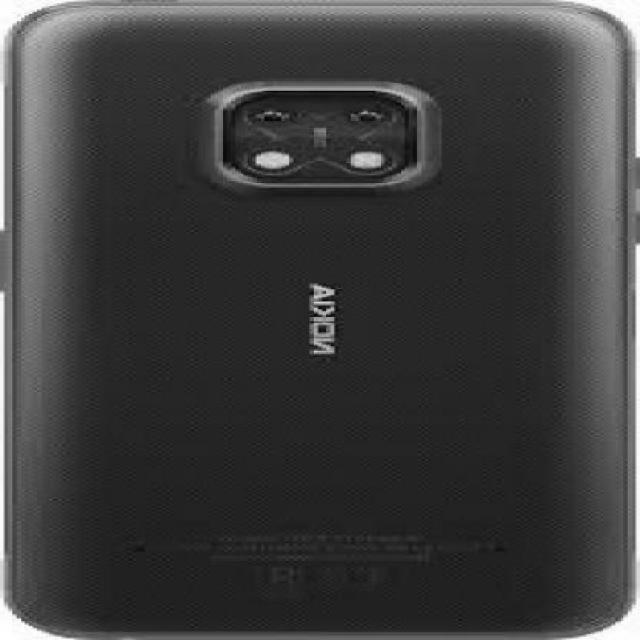fake: (1, 2, 637, 638)
